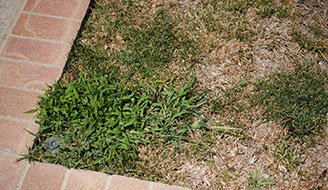crabgrass: (141, 84, 199, 132)
